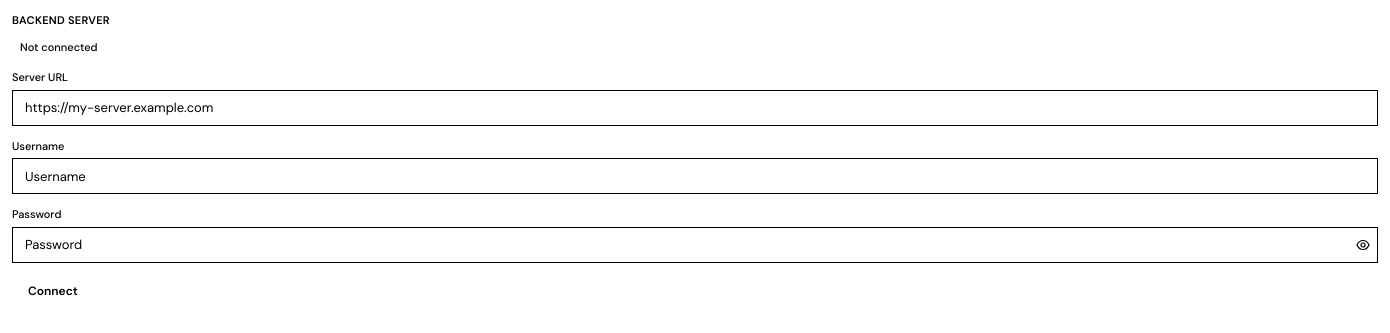
Test case: BackendServerPanel — ARIA attributes (WCAG 4.1.2, 4.1.3) › URL validation error uses role="alert" (WCAG 4.1.3)
Type "bad-url" into the field labelled "Server URL" at (695, 108), box [12,90,1378,126]
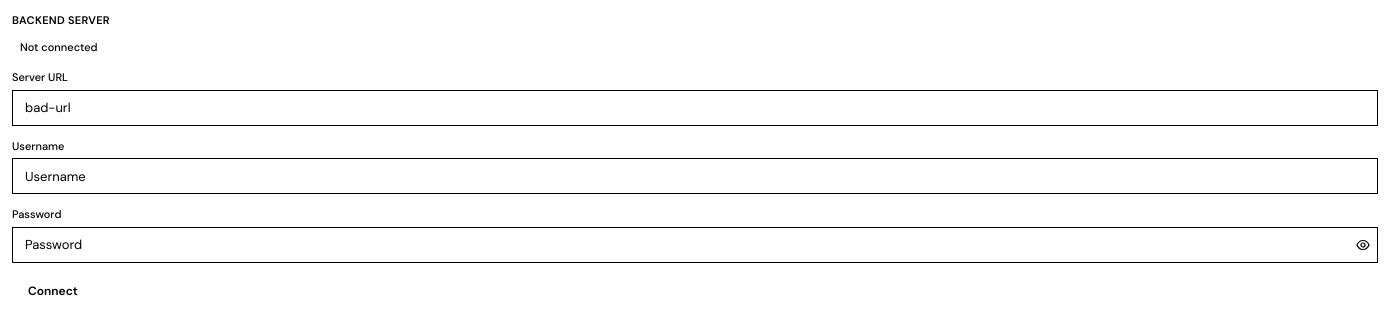
Leave the field labelled "Server URL", box [12,90,1378,126]
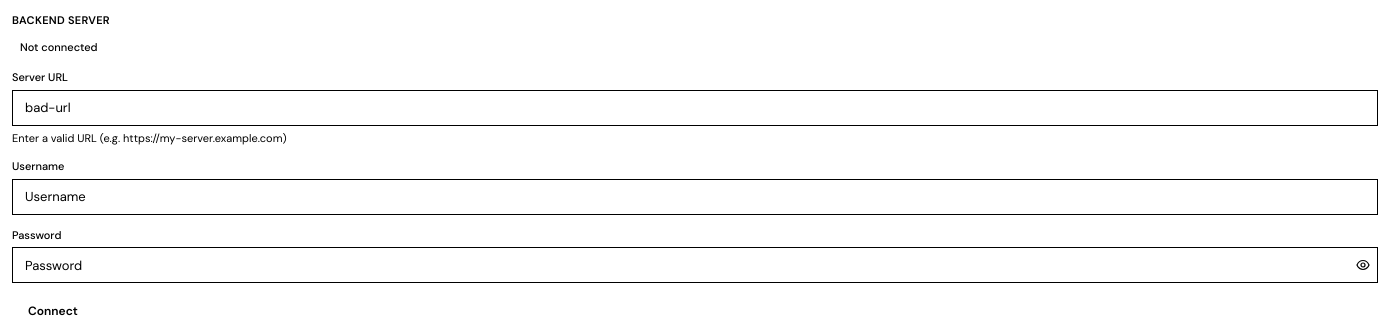
Result: the message shows "valid URL" at [12,130,286,144]
